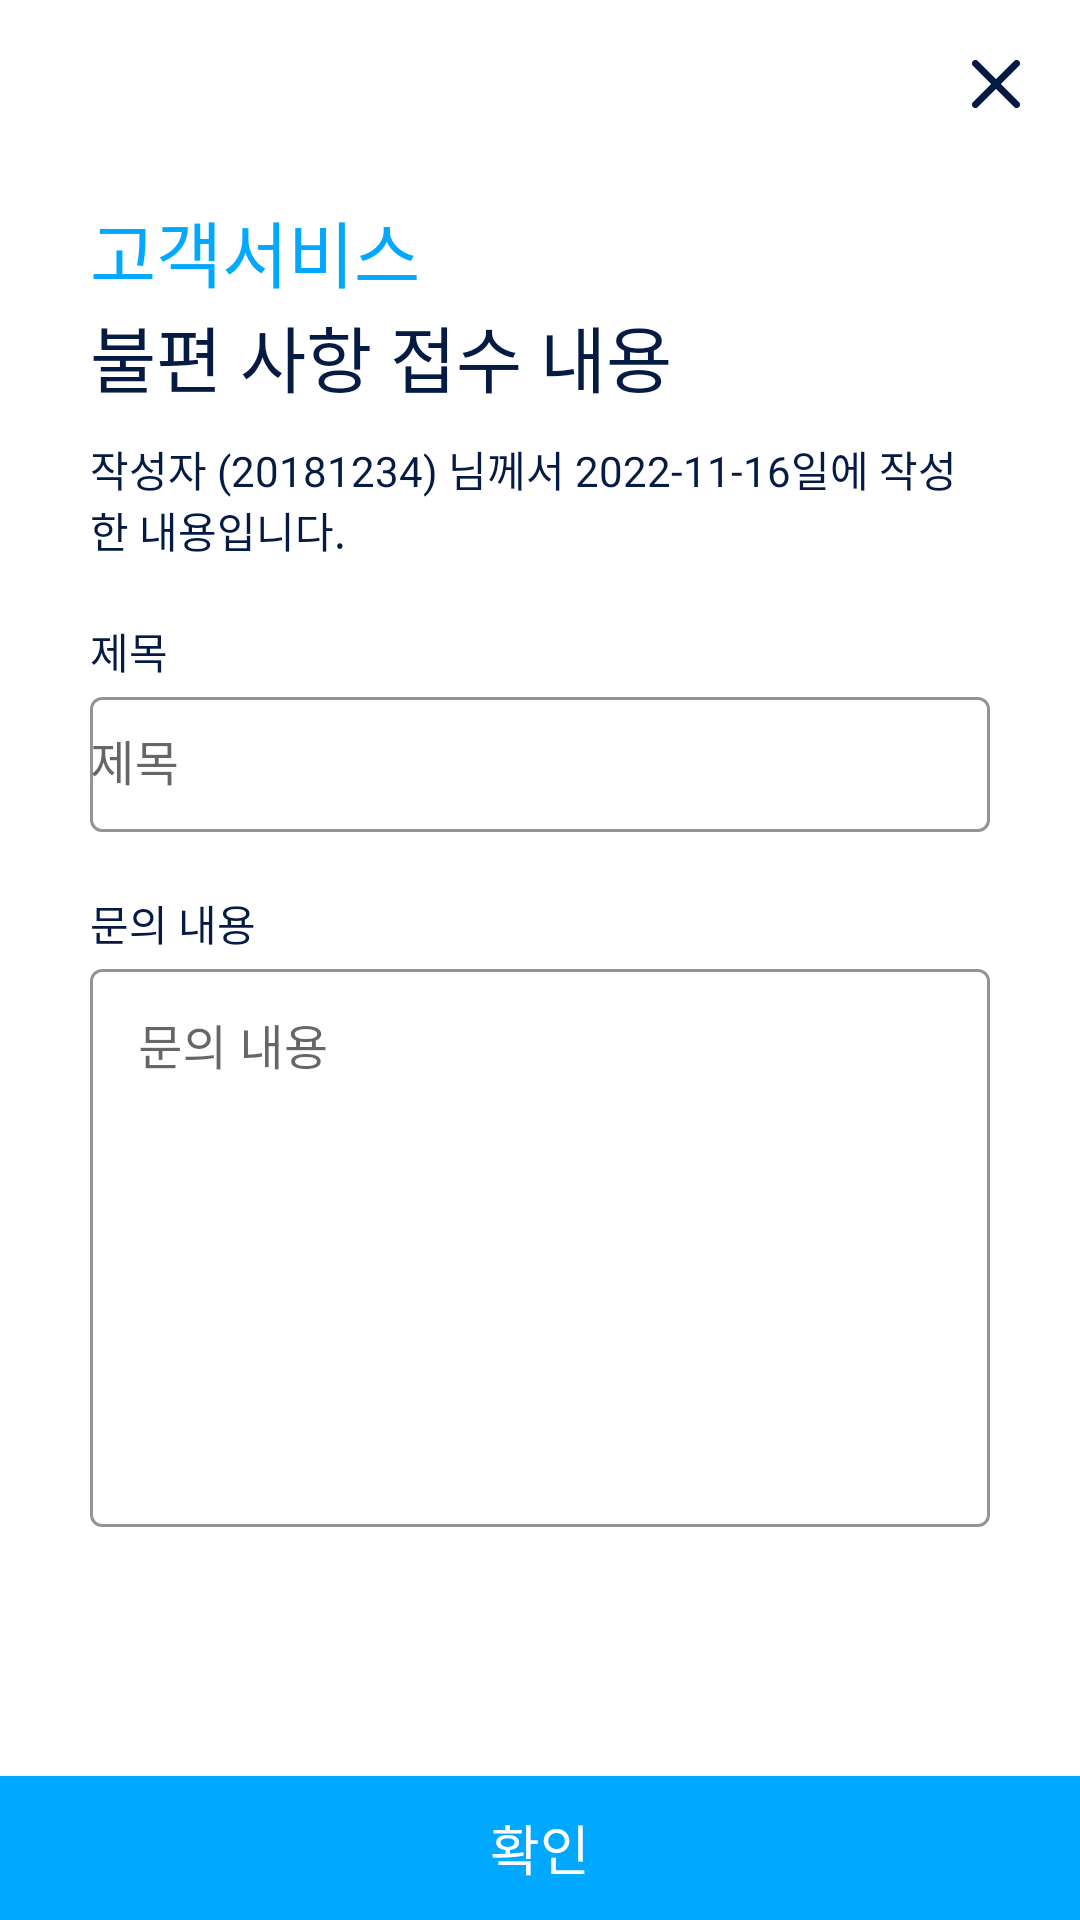

Icons on this 1080px x 1920px Android screen, each with its box as (x1=x1, y1=y1, x2=x2, y2=y2):
close full: (x1=972, y1=60, x2=1020, y2=108)
